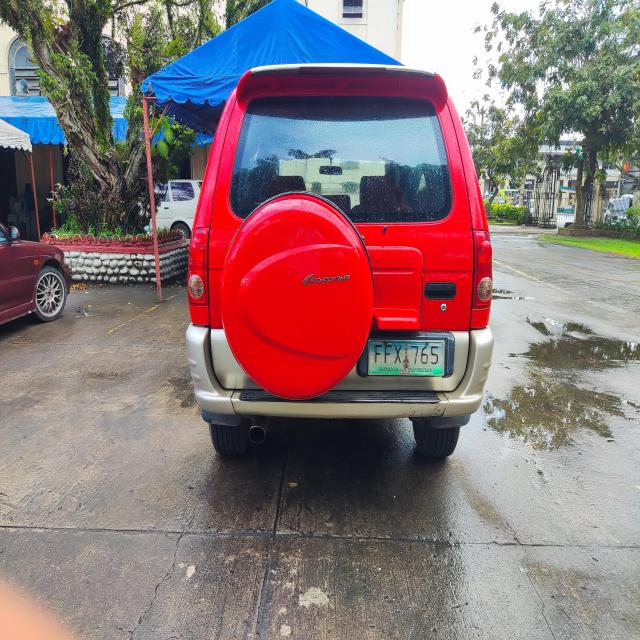plate: (366, 338, 446, 378)
